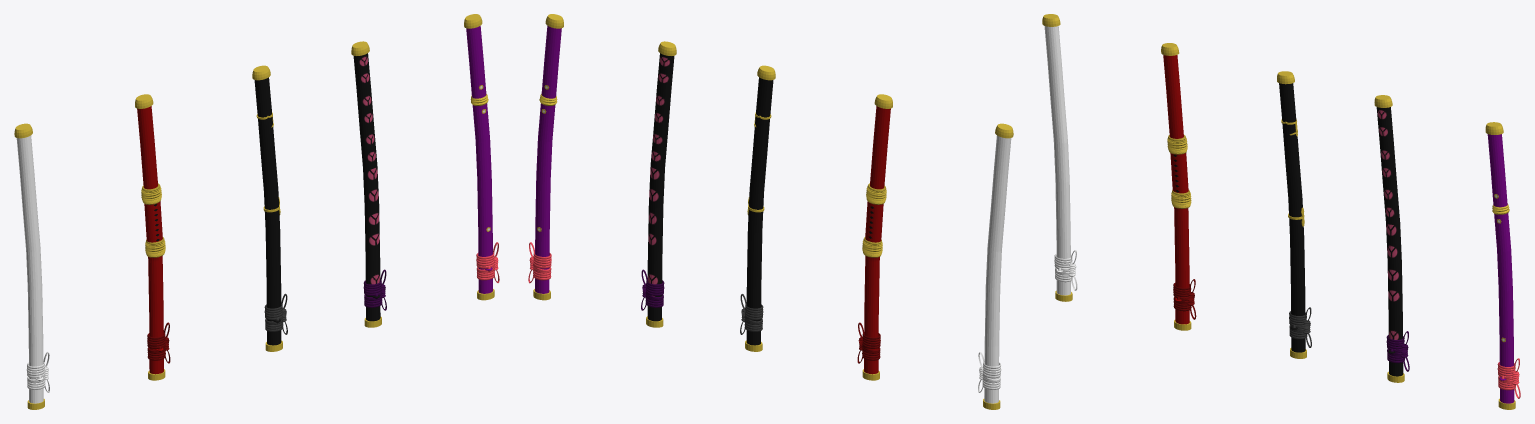
File: zoro-katanas.glb
The picture shows the model from 3 angles, left to right: view 1: azimuth 30°, elevation 25°; view 2: azimuth 150°, elevation 25°; view 3: azimuth 330°, elevation 25°; orthographic projection.
Parts seen in each view (by area): view 1: Sandai Textur, Yubashiri Textur, Enma Textur, Shusui Textur, Wado Textur; view 2: Sandai Textur, Yubashiri Textur, Shusui Textur, Enma Textur, Wado Textur; view 3: Sandai Textur, Yubashiri Textur, Enma Textur, Wado Textur, Shusui Textur.
Part boxes in pixels (x1,y1,x2,y2): Sandai Textur: (135,94,170,380); Yubashiri Textur: (252,65,287,351); Enma Textur: (464,14,499,300); Shusui Textur: (351,41,386,327); Wado Textur: (14,123,49,409); Sandai Textur: (857,94,892,380); Yubashiri Textur: (740,65,775,351); Shusui Textur: (641,41,676,327); Enma Textur: (528,14,563,300); Wado Textur: (978,123,1013,409); Sandai Textur: (1161,43,1196,330); Yubashiri Textur: (1277,71,1311,358); Enma Textur: (1485,122,1520,409); Wado Textur: (1042,14,1077,301); Shusui Textur: (1374,95,1409,382).
Size of what is drawn, in the model's own units: 3.35 by 1.88 by 0.1188.
Materials: 5 (5 with a texture image).
